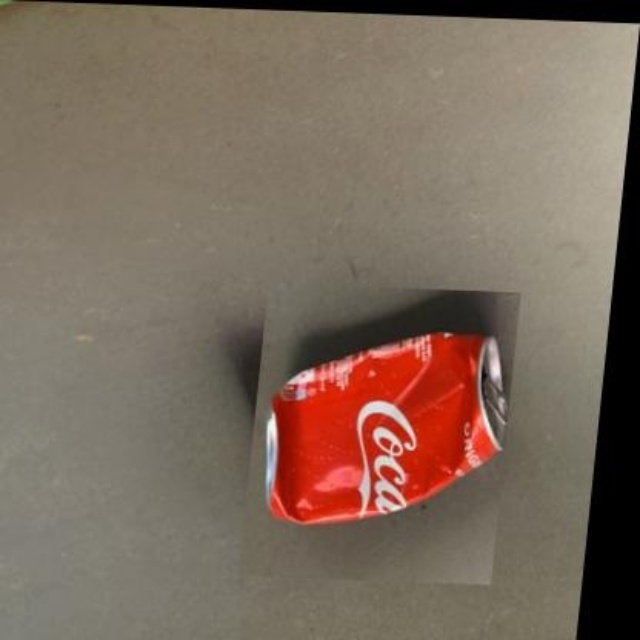trash: (266, 332, 505, 522)
